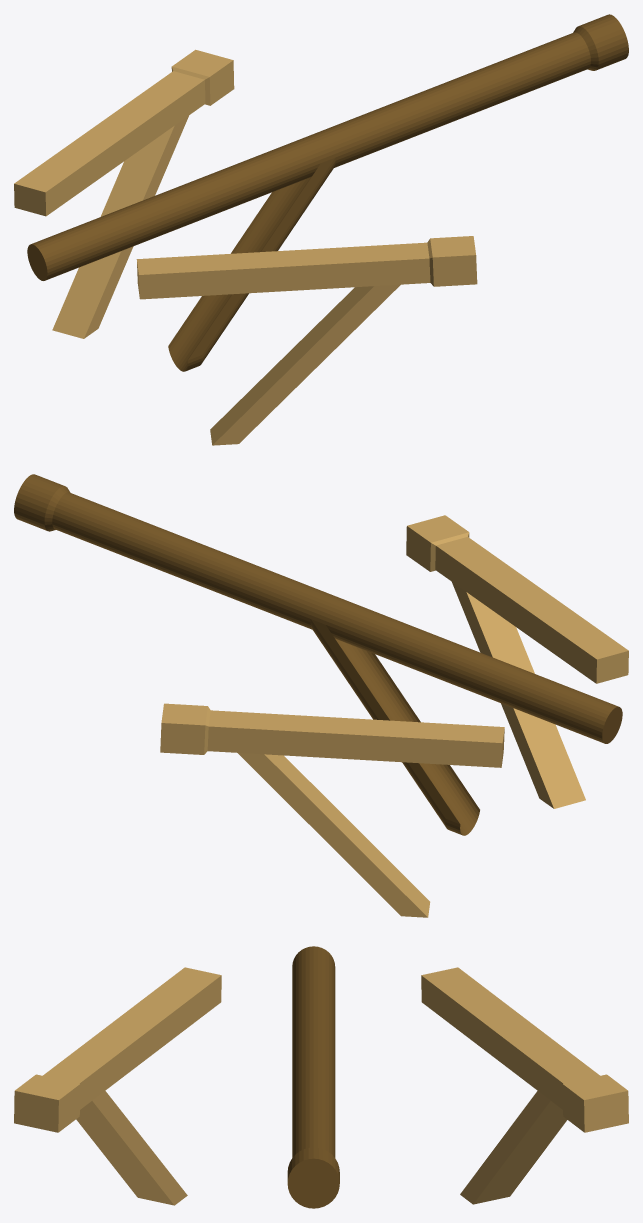
The model's file is beam.obj.
The picture shows the model from 3 angles, top to bottom: view 1: azimuth 30°, elevation 25°; view 2: azimuth 150°, elevation 25°; view 3: azimuth 270°, elevation 25°; orthographic projection. The views are drawn at different scales.
Visible parts, largest first — view 1: Cylinder.002, Cube.017_Cube.026, Cube.018_Cube.025; view 2: Cylinder.002, Cube.018_Cube.025, Cube.017_Cube.026; view 3: Cube.017_Cube.026, Cube.018_Cube.025, Cylinder.002.
Boxes of the visible parts, x1,y1,x2,y2 form: Cylinder.002: (27,14,628,371); Cube.017_Cube.026: (136,236,477,445); Cube.018_Cube.025: (14,49,234,338); Cylinder.002: (14,474,622,835); Cube.018_Cube.025: (160,703,504,917); Cube.017_Cube.026: (406,515,628,808); Cube.017_Cube.026: (14,967,221,1205); Cube.018_Cube.025: (421,967,628,1204); Cylinder.002: (287,946,339,1208).
Bounding box in the file's own units: 0.0972 × 0.0411 × 0.0809.
